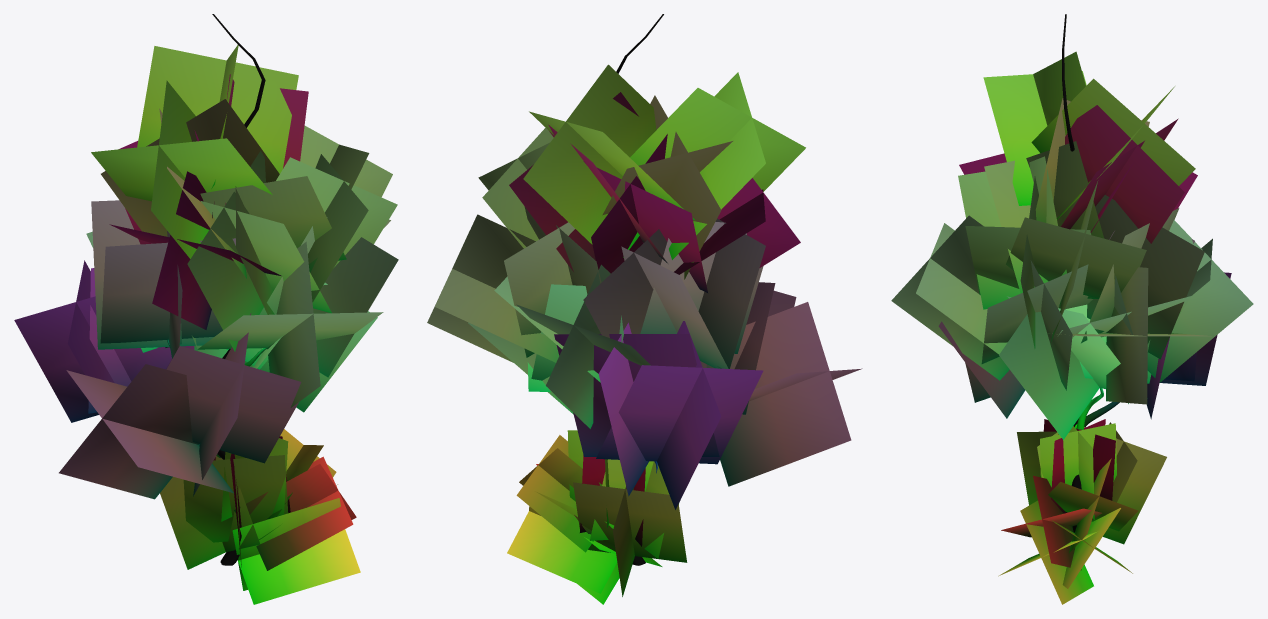
Rendered from URP_P12_Tree_4_LOD_1.fbx.
3 renders of one model, left to right at view 1: azimuth 30°, elevation 25°; view 2: azimuth 150°, elevation 25°; view 3: azimuth 270°, elevation 25°, orthographic. The views are drawn at different scales.
Parts seen in each view (by area): view 1: Tree_4_LOD_1; view 2: Tree_4_LOD_1; view 3: Tree_4_LOD_1.
Boxes of the visible parts, <box> form: Tree_4_LOD_1: <box>14,14,398,604</box>; Tree_4_LOD_1: <box>427,14,862,604</box>; Tree_4_LOD_1: <box>891,14,1253,604</box>.
Size of the model in its own units: 193 by 301 by 179.
